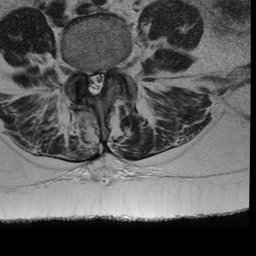CCS_normal: (91, 60, 99, 103)
LFS_severe_stenosis: (106, 54, 117, 84)
LLS_stenosis: (99, 59, 107, 95)
RFS_severe_stenosis: (76, 54, 84, 84)
RLS_stenosis: (84, 59, 91, 95)
